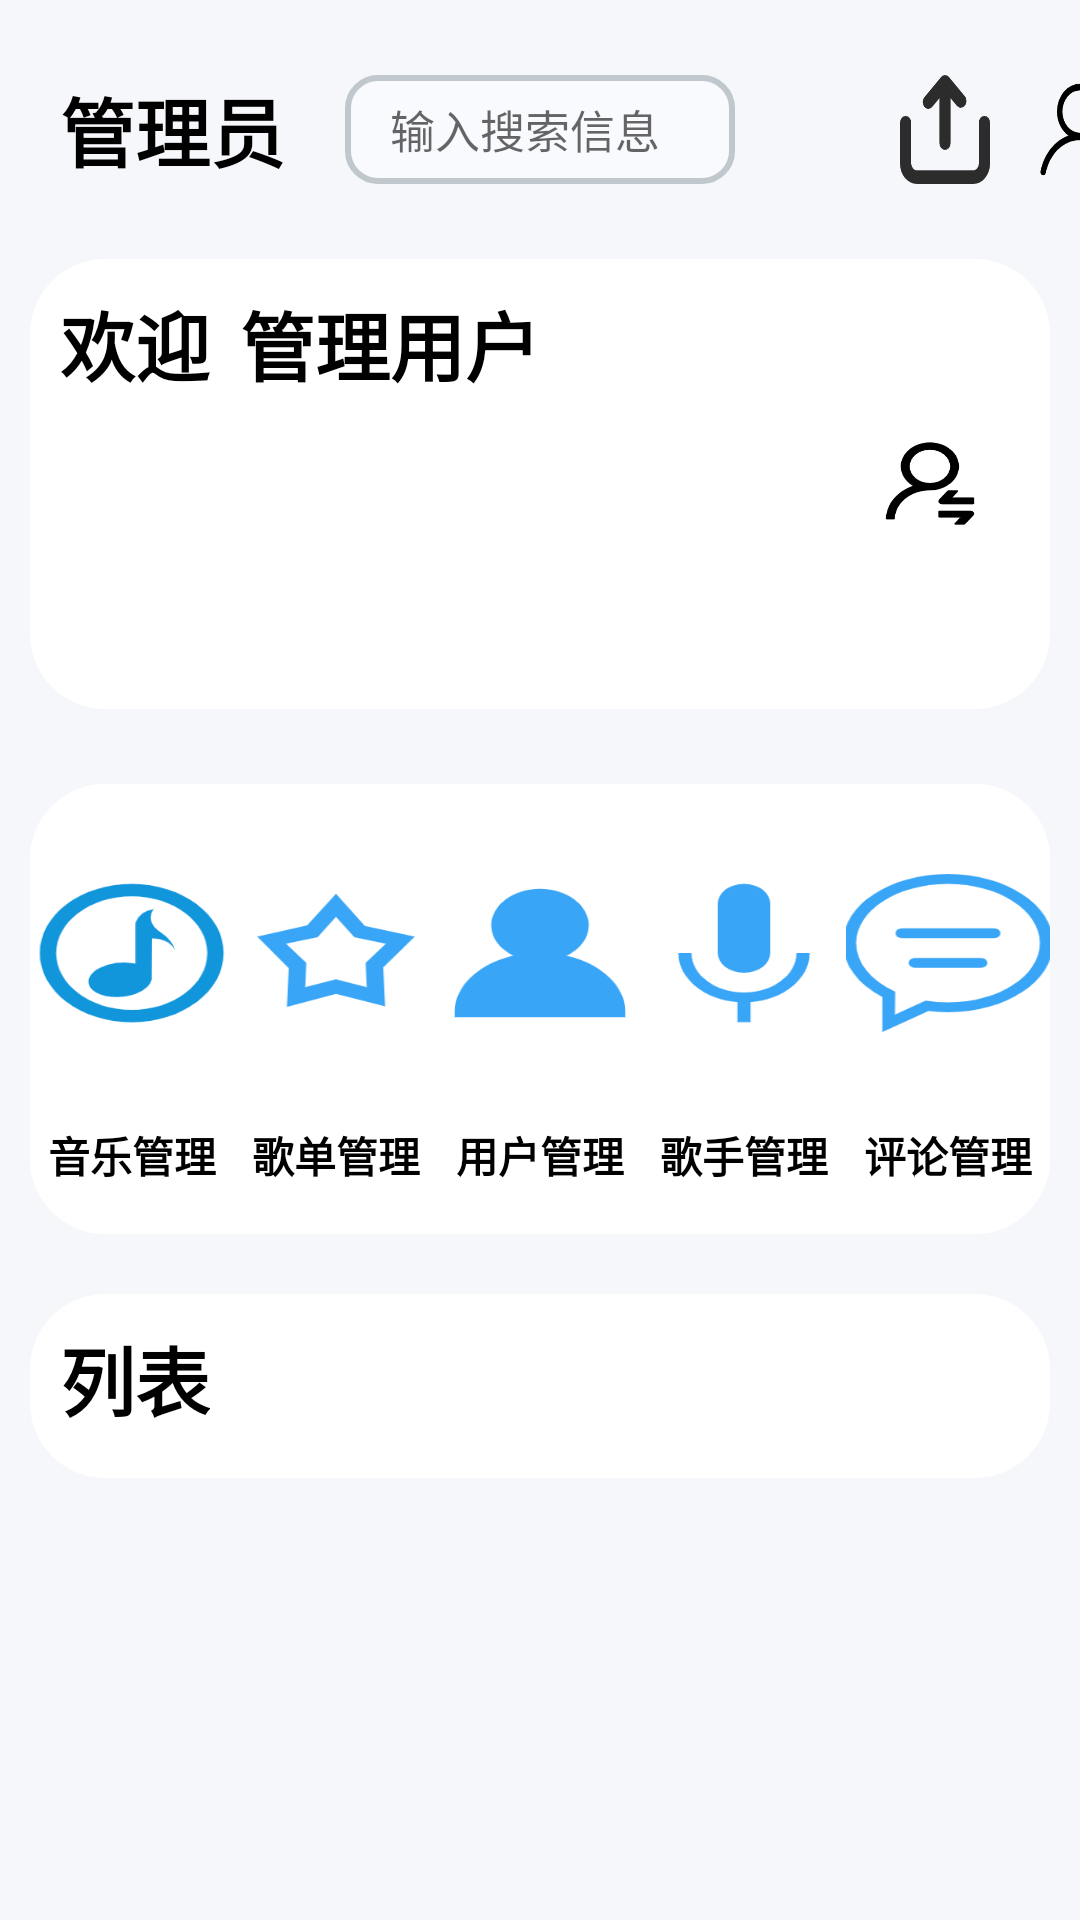

Icon click points for this 1080w x 1920h phone screenshot, format (x=x, y=y):
changeuser: (x=930, y=483)
character: (x=540, y=953)
comment: (x=948, y=953)
listen: (x=131, y=953)
singer: (x=744, y=953)
upload: (x=945, y=129)
